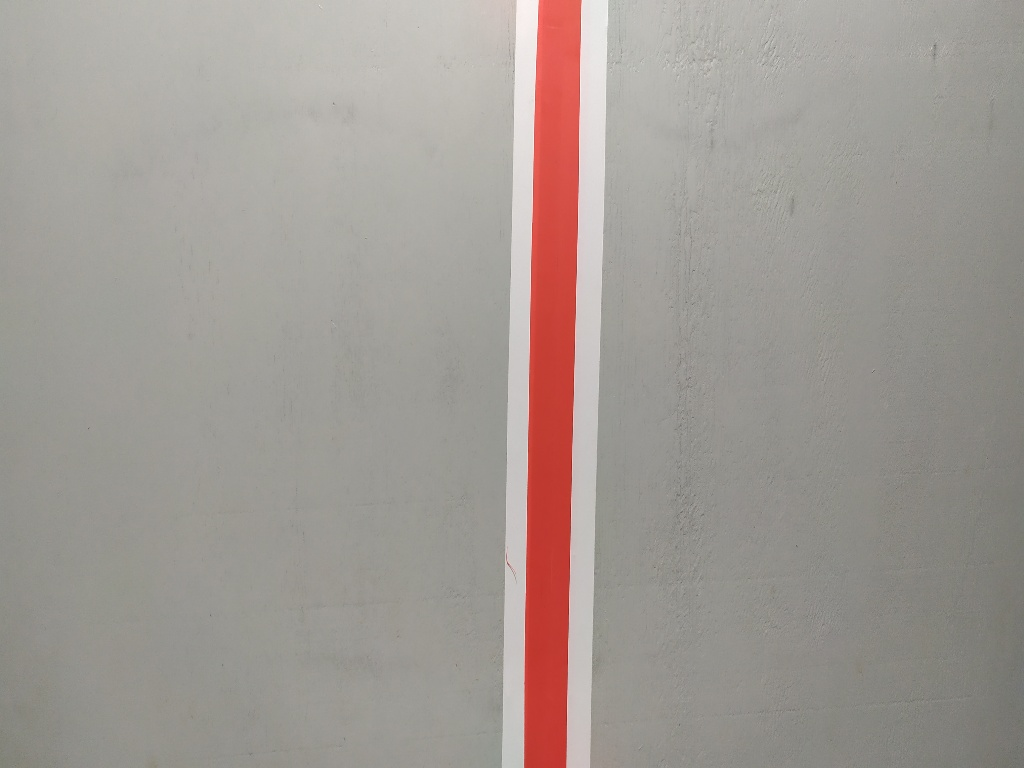reta: (504, 3, 596, 768)
